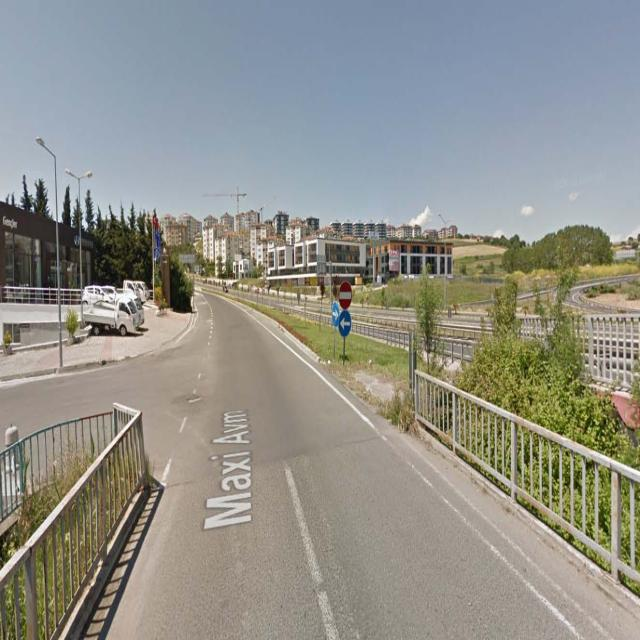girisyok: (338, 280, 352, 310)
sag: (332, 302, 338, 324)
sol: (338, 311, 352, 338)
